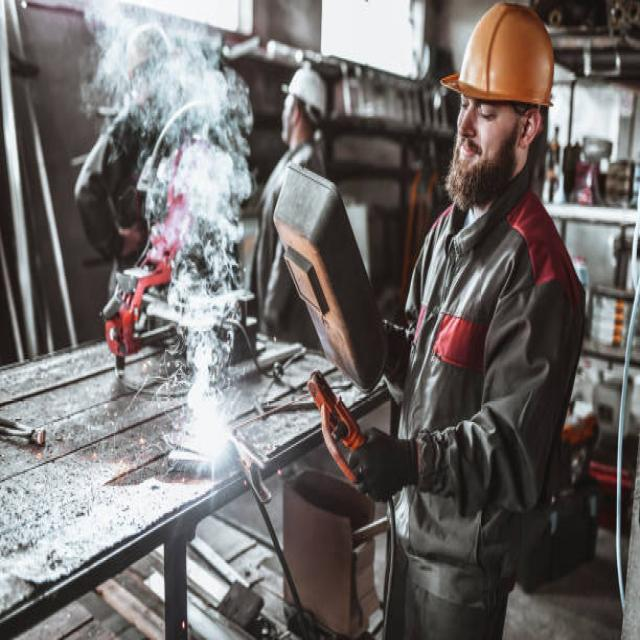Gloves: (344, 424, 421, 503)
helmet: (437, 2, 560, 108), (280, 65, 329, 117)
person: (345, 0, 590, 640), (248, 66, 332, 350)
